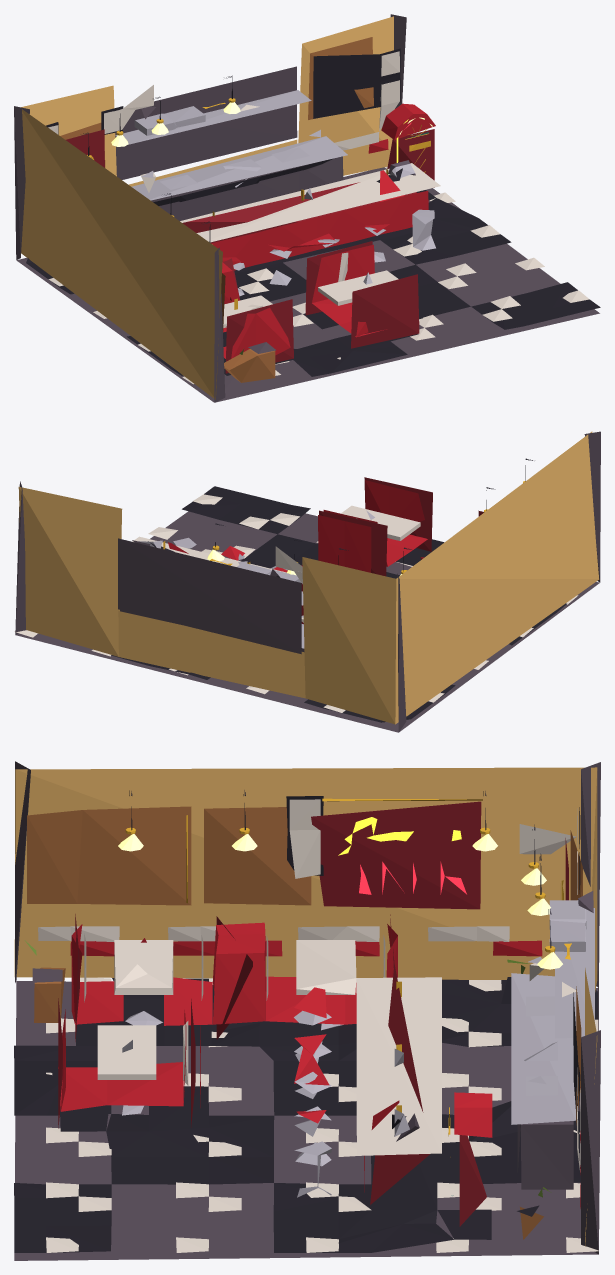
The model's file is int.diner.lod2.glb.
The picture shows the model from 3 angles, top to bottom: view 1: azimuth 30°, elevation 25°; view 2: azimuth 150°, elevation 25°; view 3: azimuth 270°, elevation 25°; orthographic projection. The views are drawn at different scales.
Visible parts, largest first — view 1: interior, door_kitchen; view 2: interior; view 3: interior.
Part boxes in pixels (<box>): interior: <box>14,14,600,402</box>; door_kitchen: <box>66,129,104,167</box>; interior: <box>14,431,600,732</box>; interior: <box>14,761,600,1260</box>.
Bounding box in the file's own units: 10.01 × 3.83 × 9.03.
